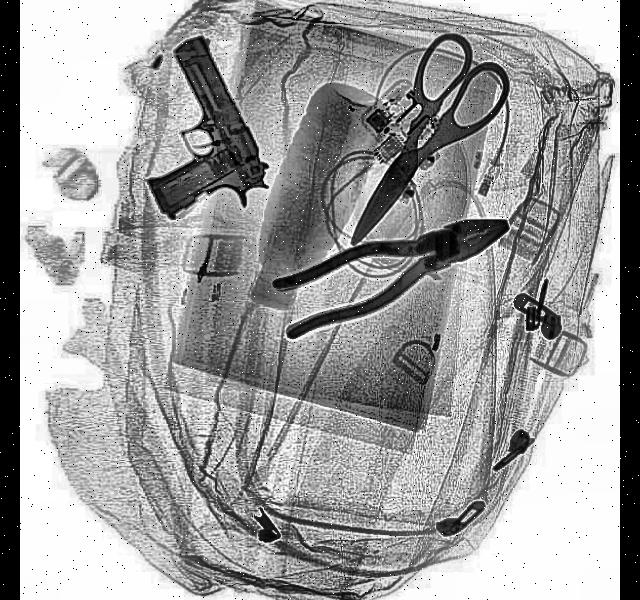Gun: (105, 32, 277, 252)
Pliers: (268, 191, 516, 346)
Scissors: (318, 20, 516, 278)
